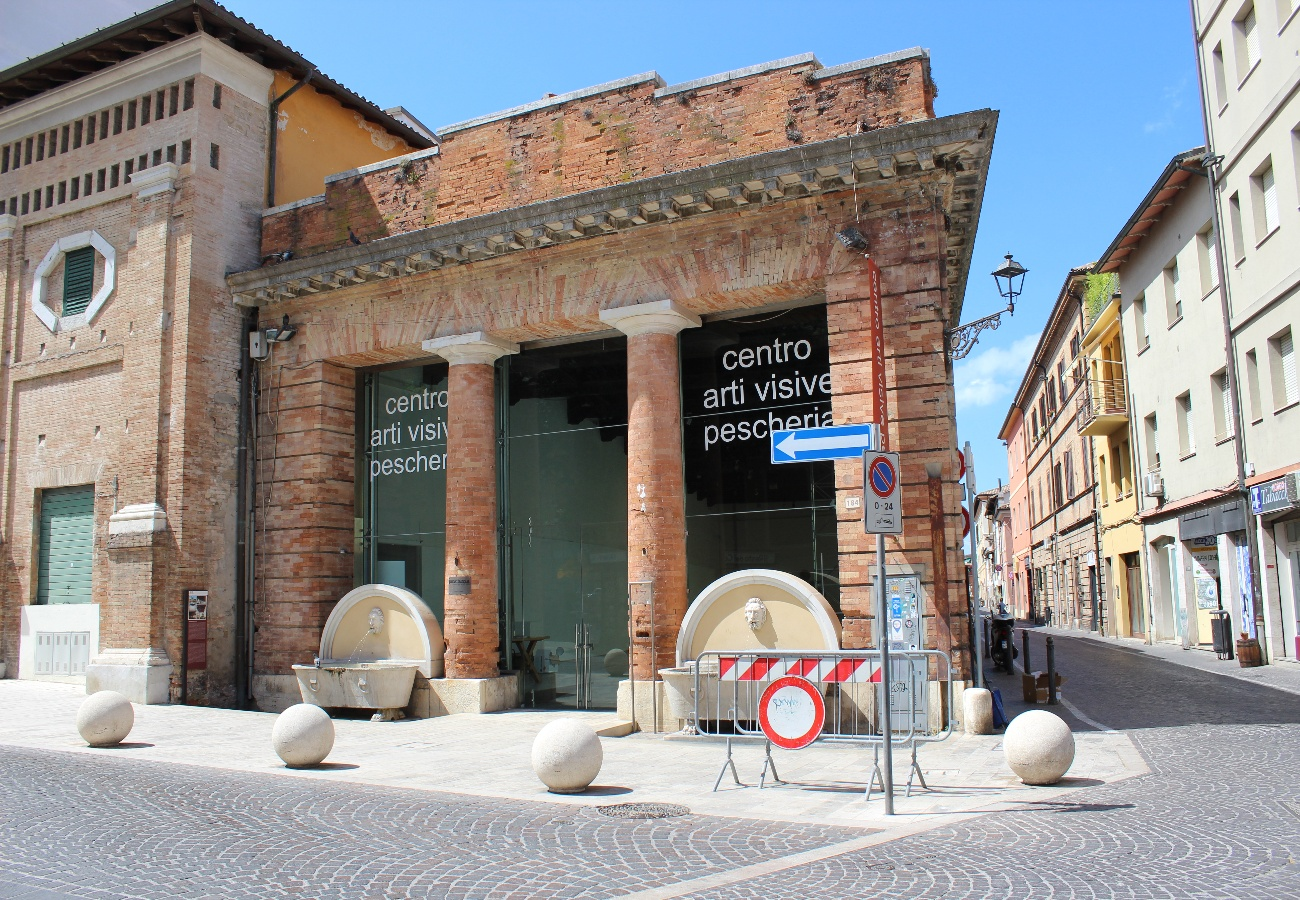Centro Arti Visive Pescheria: (228, 38, 1006, 722)
